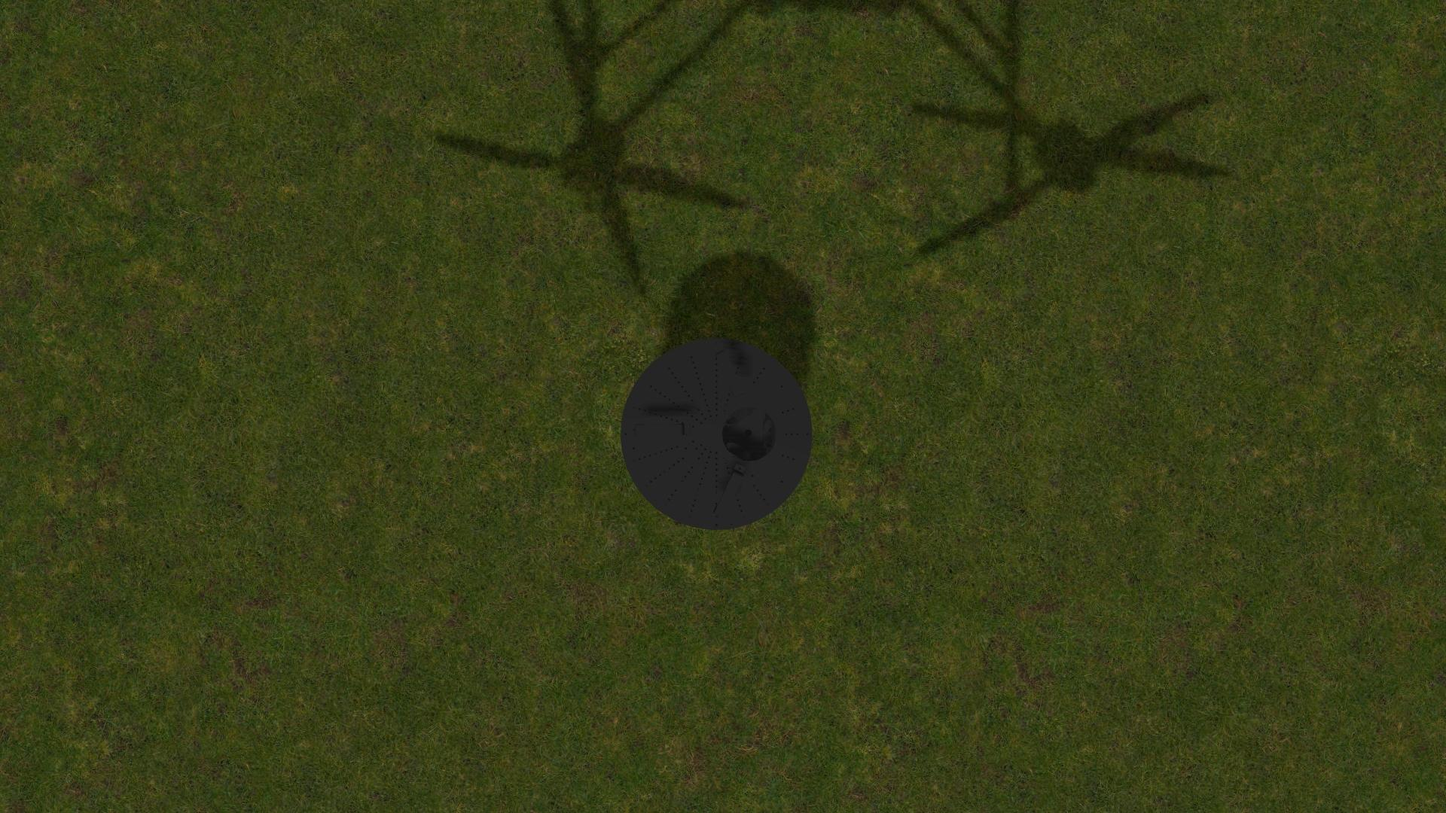alca: (711, 462, 746, 521), (714, 345, 747, 403), (631, 424, 690, 437)
armadilha: (620, 337, 813, 531)
